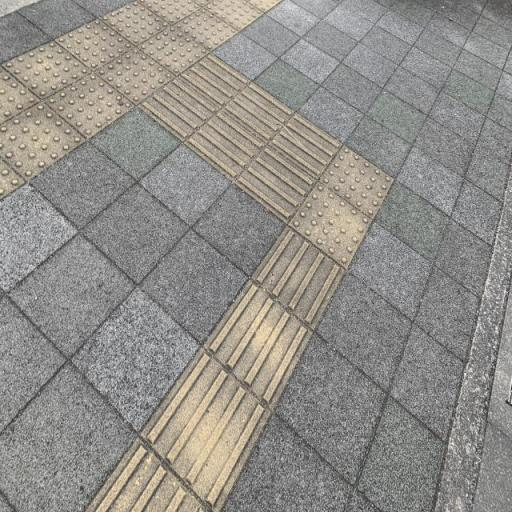dot: (290, 183, 369, 267), (0, 103, 83, 178), (322, 146, 392, 218), (50, 74, 129, 137), (4, 42, 88, 97), (98, 49, 172, 102), (58, 19, 132, 69), (141, 27, 208, 74), (103, 2, 167, 44), (178, 8, 236, 50)
line: (135, 348, 273, 511), (201, 279, 315, 412), (248, 227, 347, 332), (234, 144, 318, 224), (184, 108, 266, 181), (139, 76, 218, 141), (269, 111, 342, 180), (220, 81, 295, 144), (178, 53, 251, 107)
